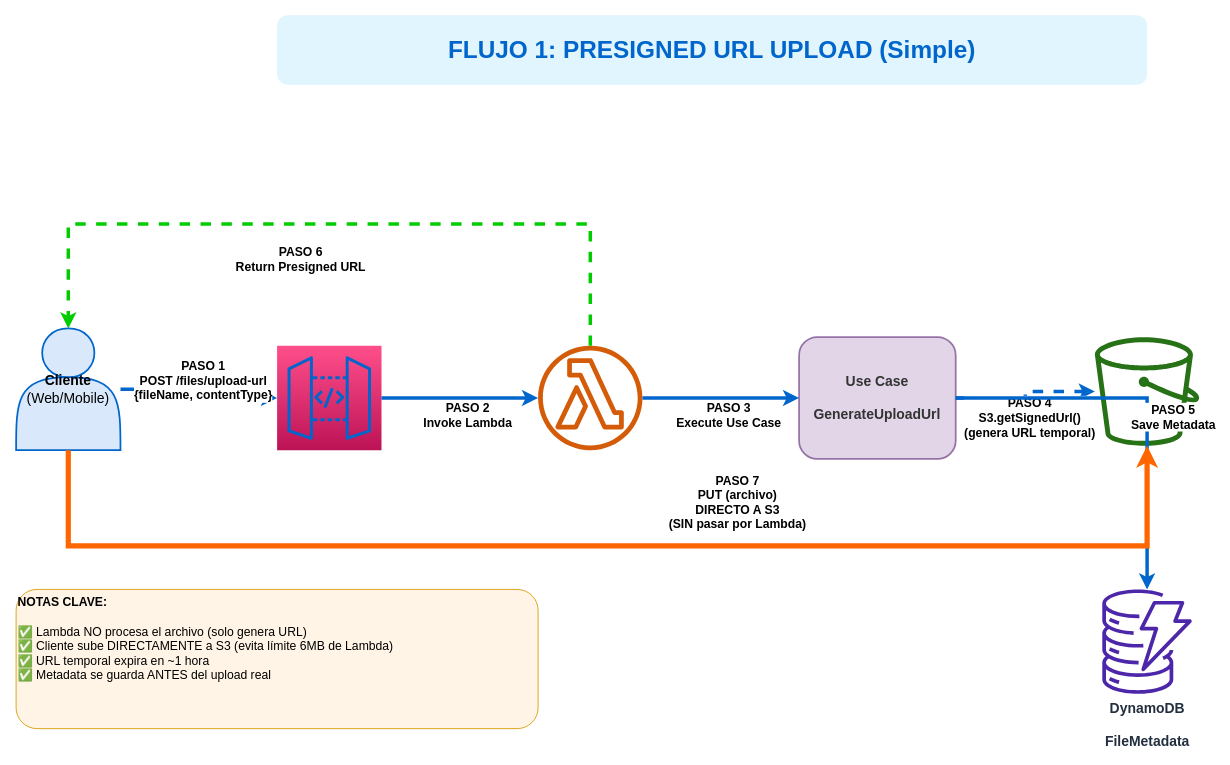
The diagram is 1230 pixels wide and 765 high, and some of its shapes have lost their labels. Here are the shapes that lost their labels. From the top down, the box of each, then its label:
(276, 345, 382, 451): API Gateway REST API
(537, 345, 643, 451): generateUploadUrl Lambda Handler
(1093, 335, 1200, 447): S3 Bucket file-service-uploads
